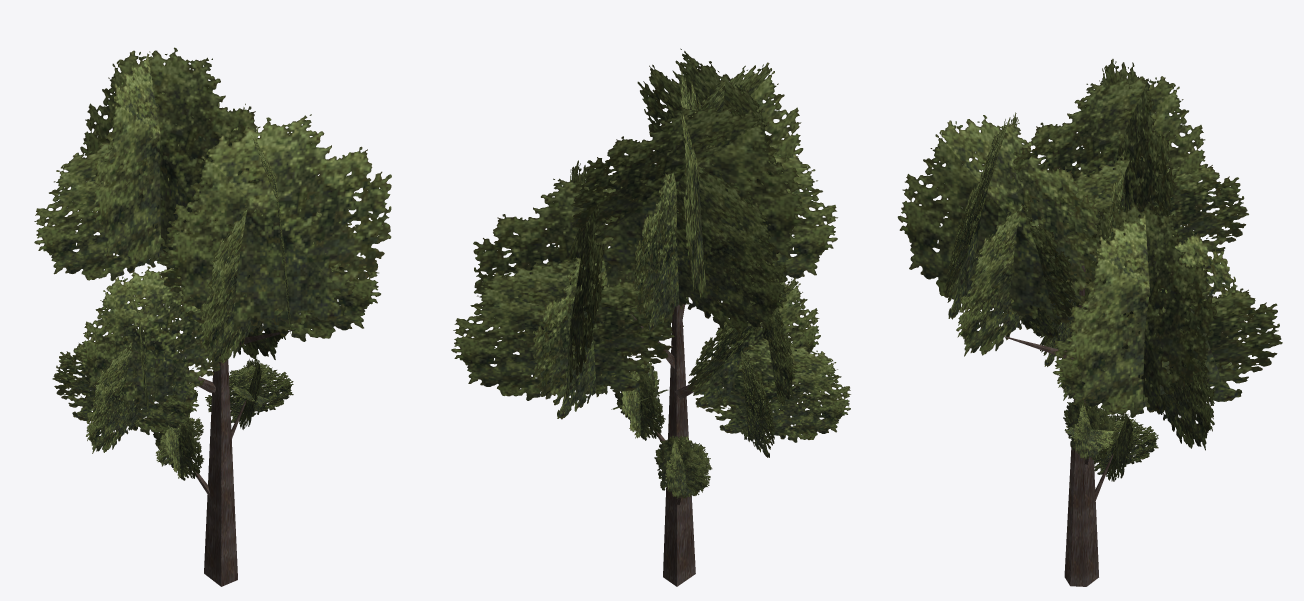
File: veg_treeb1.obj
The picture shows the model from 3 angles, left to right: view 1: azimuth 30°, elevation 25°; view 2: azimuth 150°, elevation 25°; view 3: azimuth 270°, elevation 25°; orthographic projection. The views are drawn at different scales.
Visible parts, largest first — view 1: veg_treeb1_L0; view 2: veg_treeb1_L0; view 3: veg_treeb1_L0.
Part boxes in pixels (<box>): veg_treeb1_L0: <box>34,47,391,586</box>; veg_treeb1_L0: <box>451,48,850,586</box>; veg_treeb1_L0: <box>897,59,1282,586</box>.
Bounding box in the file's own units: 11.5 × 17.48 × 12.42.
